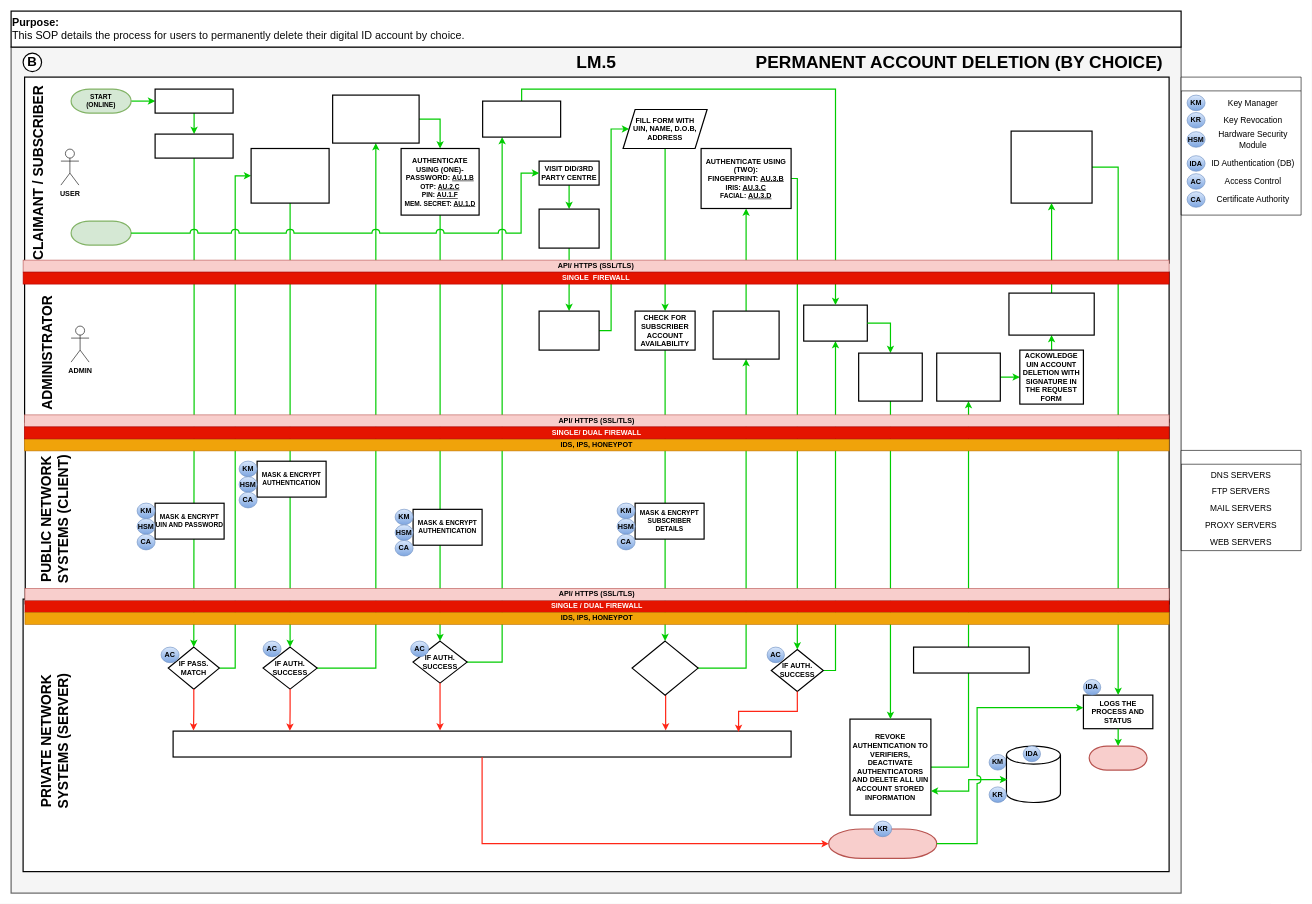
This 1312x904 diagram has some shape labels left out. Each missing label, with the box of its shape:
AUTHENTICATE USING (ONE)- OTP: AU.2.C PIN: AU.1.F MEM. SECRET: AU.1.D: (250, 148, 329, 203)
CONFIRM IRREVERSIBE ACCOUNT DELETION: (482, 100, 561, 137)
END: (1088, 745, 1147, 770)
EXCEPTION AND ERROR HANDLING: (172, 730, 791, 757)
EXPLAIN ACCOUNT DELETION AND REQUEST AUTHENTICATION: (712, 310, 779, 359)
HAND OVER ACCOUNT DELETION FORM: (538, 310, 599, 350)
HOMEPAGE : NAVIGATE TO SETTINGS->ACCOUNT->REQUEST TO FORGET ACCOUNT: (332, 94, 419, 143)
IF UIN AND DETAILS MATCH: (631, 640, 698, 695)
INITIATE ACCOUT DELETION FOR SUBSCRIBER UIN: (803, 304, 868, 341)
LEGEND: (1180, 76, 1301, 215)
LOGIN WITH UIN AND PASSWORD: (154, 133, 233, 158)
NOTIFICATION GENERATOR: (913, 646, 1029, 673)
POST THE ACKNOWLEDGEMENT TO THE SUBSCRIBER'S ADDRESS: (1008, 292, 1095, 335)
PRINT REQUEST FORM WITH UIN AND SUBSCRIBER DETAILS: (858, 352, 923, 401)
PUBLIC NETWORK: (1180, 450, 1301, 551)
RECEIVE ACKNOWLEDGEMENT OF ACCOUNT DELETION TO REGISTERED ADDRESS: (1010, 130, 1092, 203)
RECEIVE CONFIRMATION OF ACCOUNT DELETION: (936, 352, 1001, 401)
REQUEST FOR ACCOUNT DELETION REQUEST FORM: (538, 208, 599, 248)
START (OFFLINE): (70, 220, 131, 245)
STORE UIN ACCOUND STATUS AND DETAILS: (1006, 745, 1061, 803)
TERMINATE PROCESS: REJECT REQUEST: (828, 828, 937, 859)
VISIT DID PORTAL: (154, 88, 233, 113)
